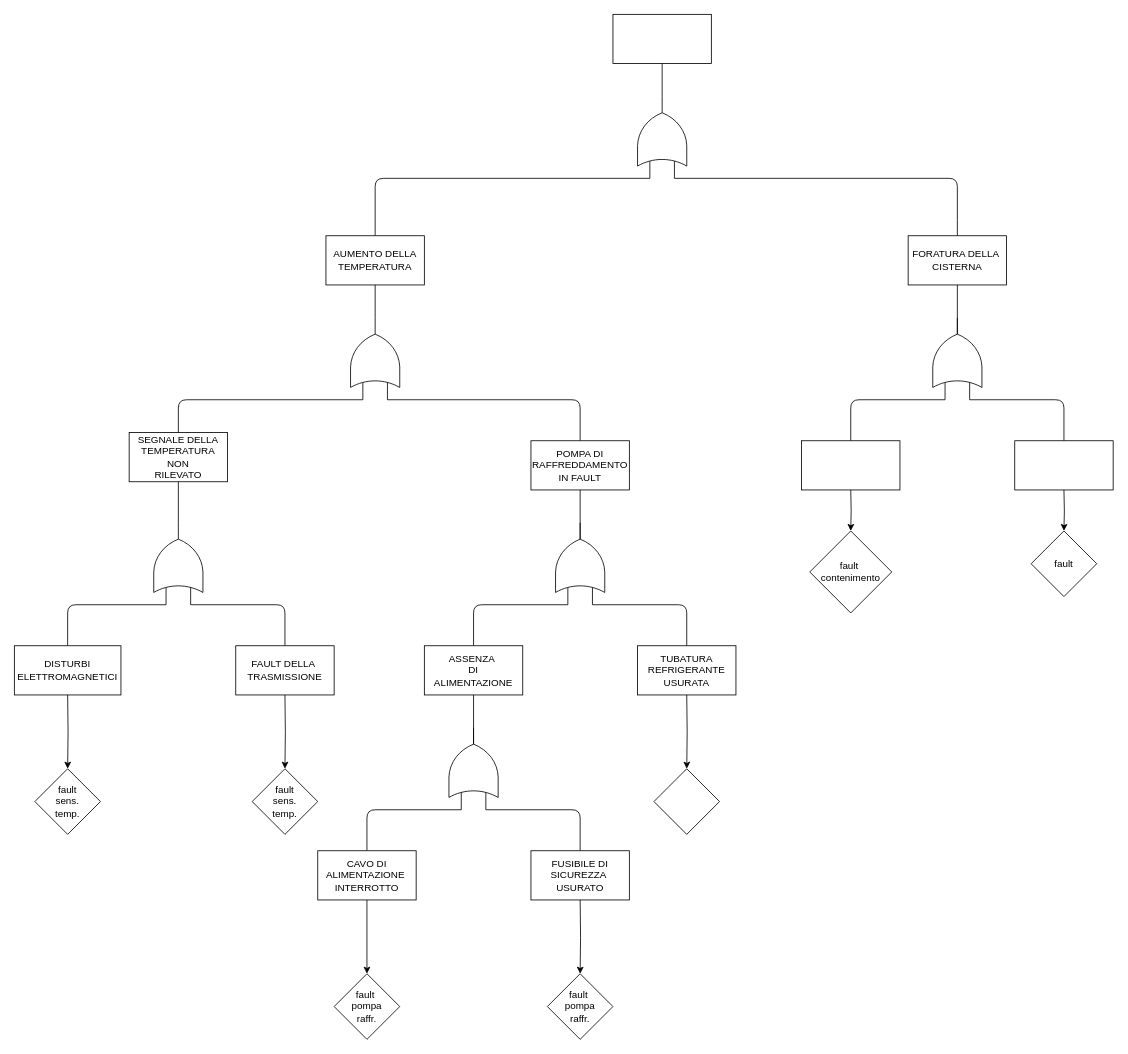
Image size: 1128x1054. Some labels were removed from this diagram. Each missing label, with the centre of its shape:
"ESPLOSIONE DELLA CISTERNA" belongs at point 661,39.
"fault pompa raffr" belongs at point 686,801.
"MANCATA MANUTENZIONE" belongs at point 1063,465.
"MANOMISSIONE VOLONTARIA" belongs at point 850,465.
